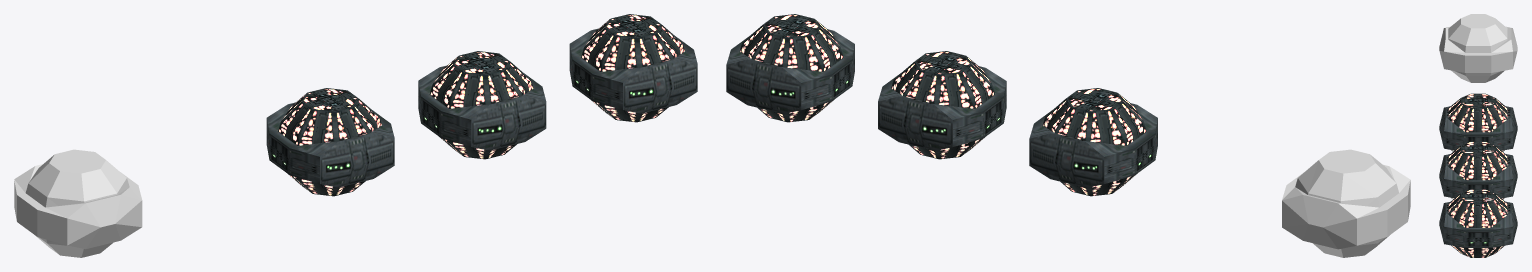
Rendered from bst_nomadfieldemitter.dae.
3 renders of one model, left to right at view 1: azimuth 30°, elevation 25°; view 2: azimuth 150°, elevation 25°; view 3: azimuth 270°, elevation 25°, orthographic. The views are drawn at different scales.
Parts seen in each view (by area): view 1: MULT[root_mesh]_LOD[1], MULT[root_mesh]_LOD[0], COL[Root], MULT[root_mesh]_LOD[2]; view 2: MULT[root_mesh]_LOD[1], MULT[root_mesh]_LOD[2], COL[Root], MULT[root_mesh]_LOD[0]; view 3: MULT[root_mesh]_LOD[2], COL[Root], MULT[root_mesh]_LOD[0], MULT[root_mesh]_LOD[1].
Boxes of the visible parts, x1,y1,x2,y2 form: MULT[root_mesh]_LOD[1]: (418,51,546,159); MULT[root_mesh]_LOD[0]: (266,88,394,196); COL[Root]: (14,149,142,257); MULT[root_mesh]_LOD[2]: (569,14,697,122); MULT[root_mesh]_LOD[1]: (878,51,1006,159); MULT[root_mesh]_LOD[2]: (726,14,854,122); COL[Root]: (1282,149,1410,257); MULT[root_mesh]_LOD[0]: (1029,88,1157,196); MULT[root_mesh]_LOD[2]: (1439,189,1517,257); COL[Root]: (1439,14,1517,82); MULT[root_mesh]_LOD[0]: (1439,93,1517,151); MULT[root_mesh]_LOD[1]: (1439,141,1517,199).
Bounding box in the file's own units: 1810 × 222 × 289.
Materials: 4 (4 with a texture image).
